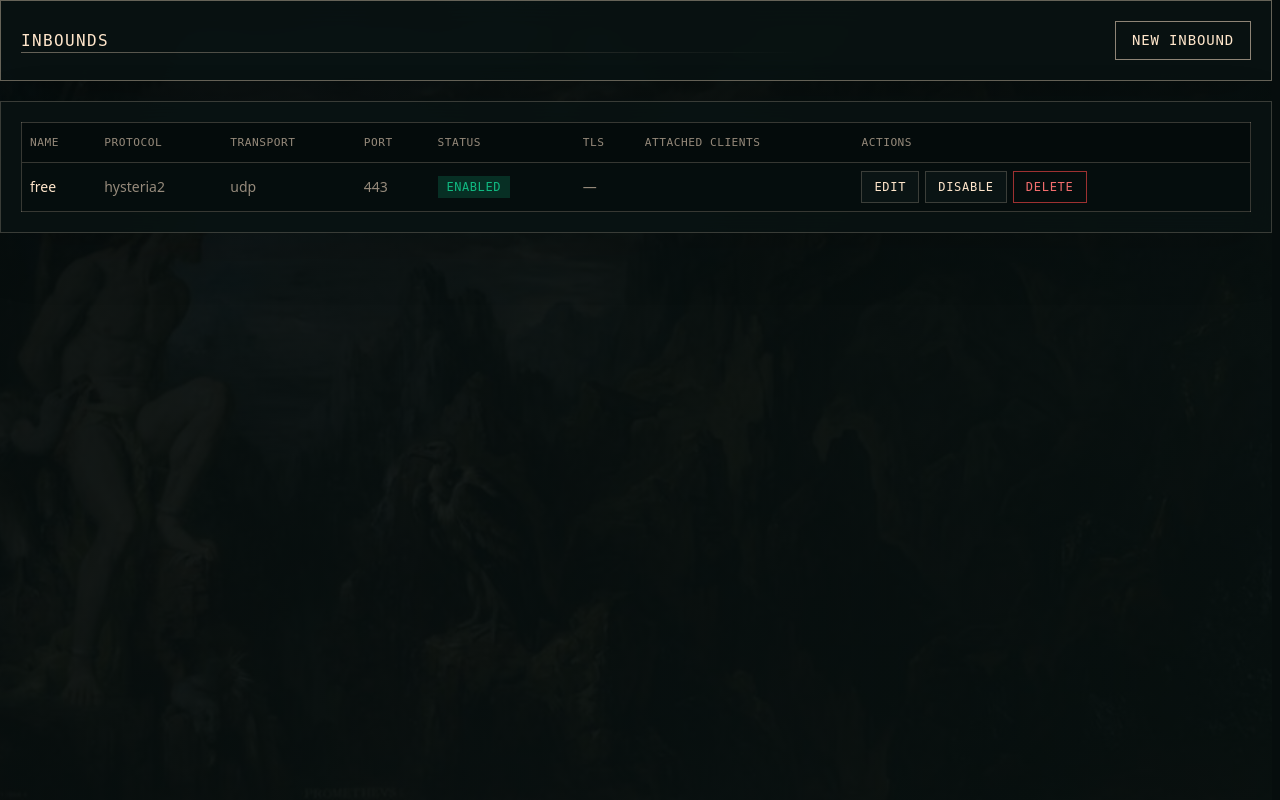
Test: InboundsPage delete confirm › withholds Confirm when bindings cannot be loaded
Step 1. Click the button "Delete" → (1050, 187), box [1013,171,1086,203]
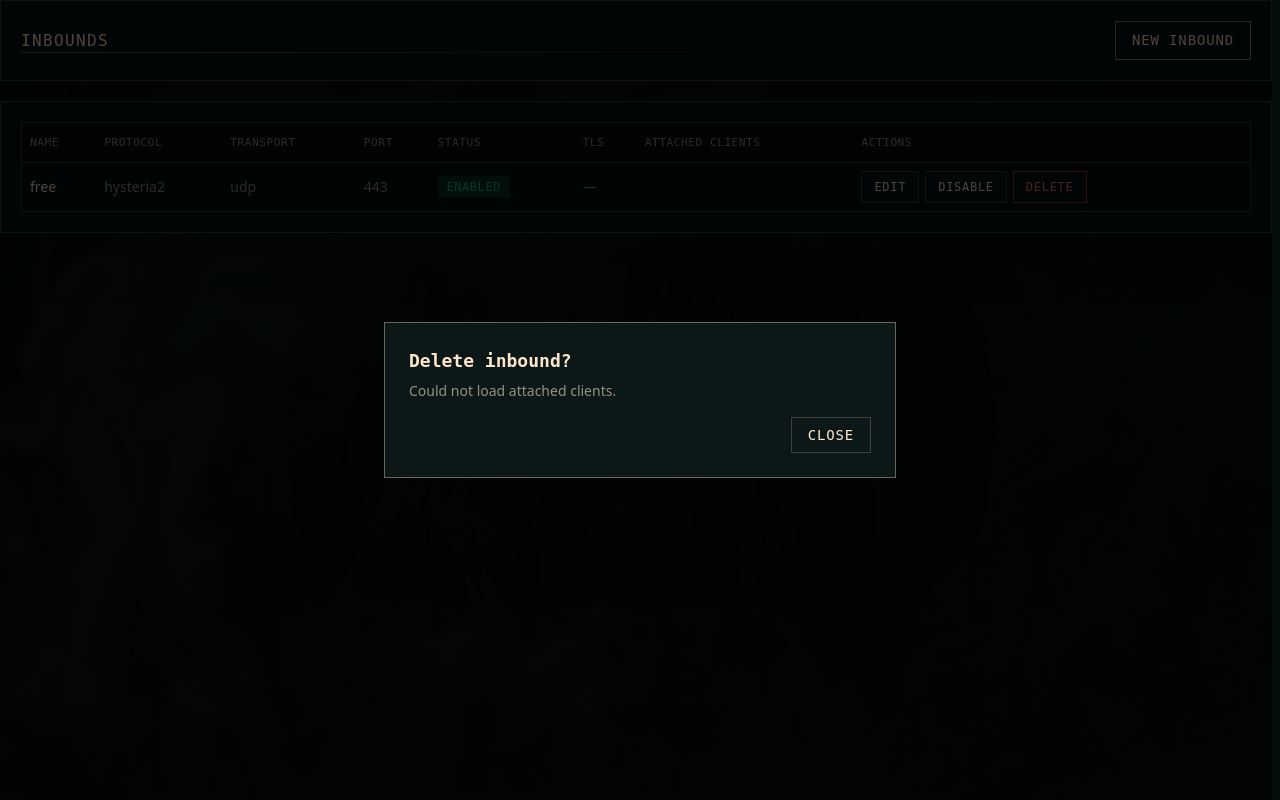
Now the text "Could not load attached clients." is shown, box [409,381,616,400]
